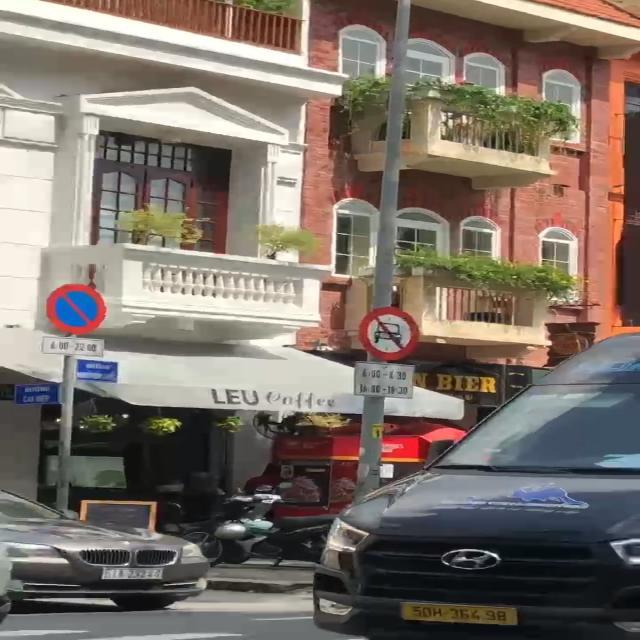Bien bao cam do xe: (46, 281, 108, 337)
Bien bao cam xe oto: (350, 302, 424, 362)
